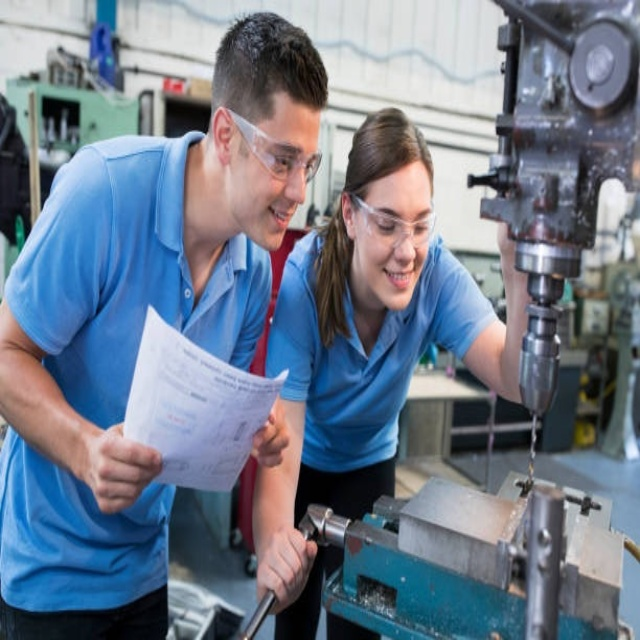Gafas: (226, 111, 323, 187), (349, 192, 436, 249)
Sin_guantes: (85, 420, 165, 514), (256, 524, 316, 612), (249, 394, 290, 467)
Sin_mascara: (379, 254, 419, 304), (260, 202, 299, 251)
